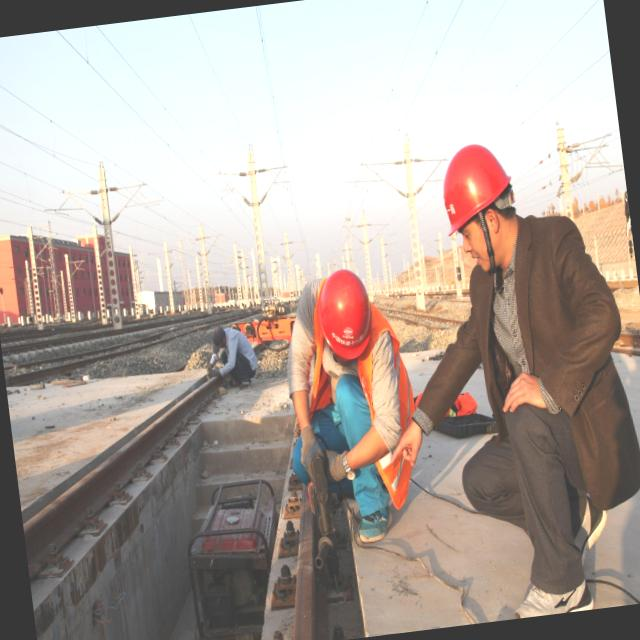helmet: (434, 140, 518, 240), (311, 264, 378, 370)
no-goggles: (457, 219, 490, 246)
no-vest: (456, 222, 606, 420)
